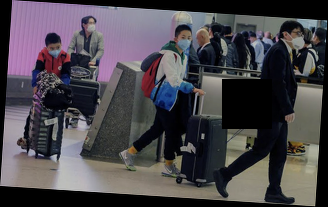with_mask: (289, 30, 307, 51), (46, 43, 62, 59), (177, 34, 192, 51), (85, 20, 97, 34)
